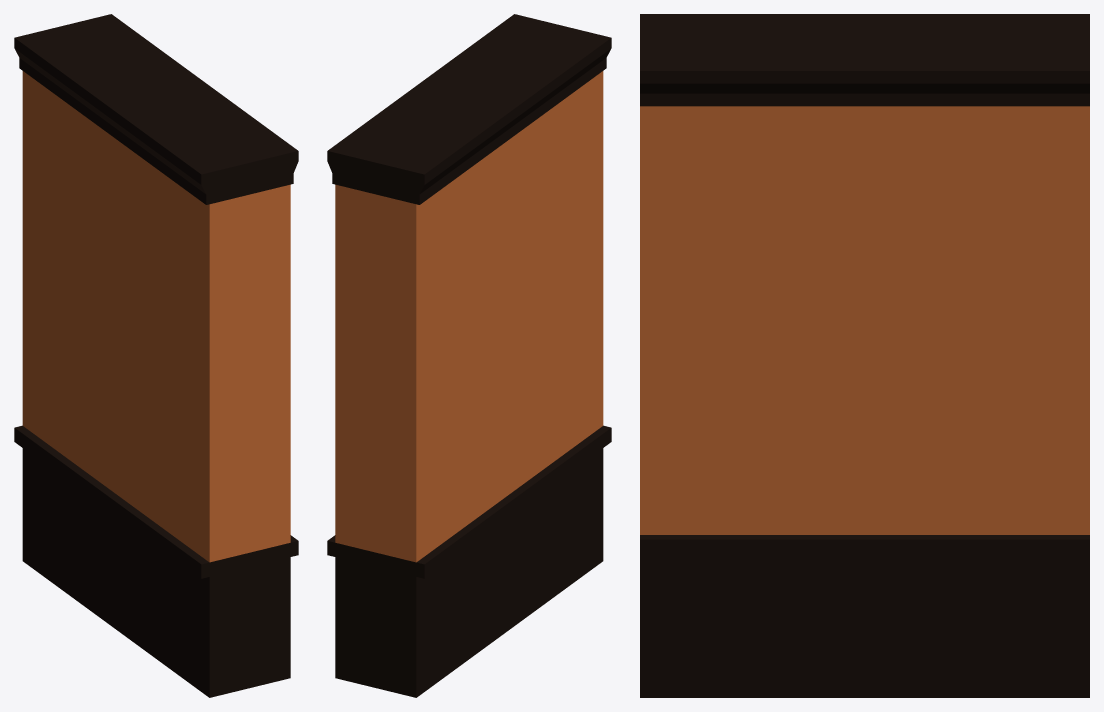
File: WallEmpty_Final.fbx
The picture shows the model from 3 angles, left to right: view 1: azimuth 30°, elevation 25°; view 2: azimuth 150°, elevation 25°; view 3: azimuth 270°, elevation 25°; orthographic projection. The views are drawn at different scales.
Parts seen in each view (by area): view 1: S_WallEmpty; view 2: S_WallEmpty; view 3: S_WallEmpty.
Boxes of the visible parts, x1=… form: S_WallEmpty: x1=14, y1=14, x2=298, y2=697; S_WallEmpty: x1=327, y1=14, x2=611, y2=697; S_WallEmpty: x1=640, y1=14, x2=1089, y2=697.
Bounding box in the file's own units: 0.5994 × 3.1 × 2.
